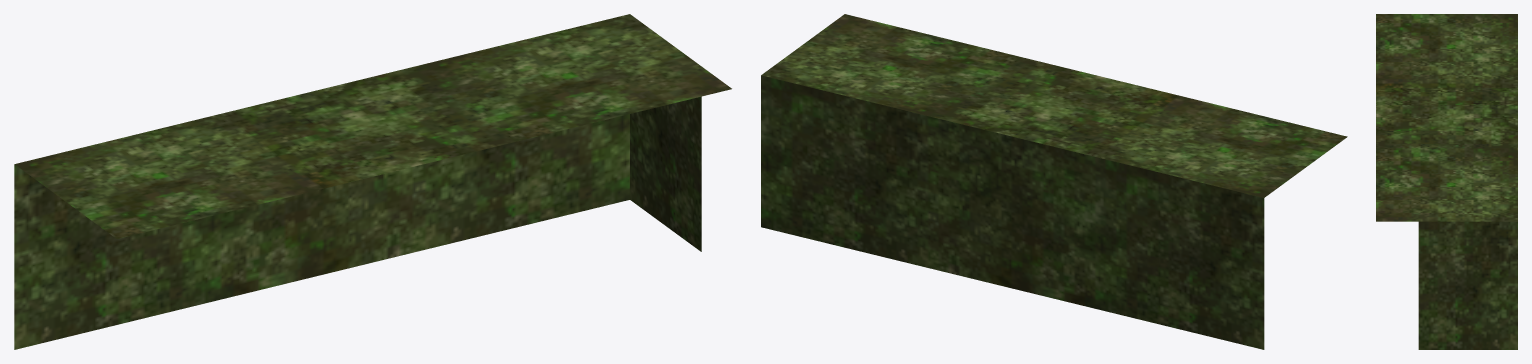
The model's file is OVERHILL_A_01_PLANE129.fbx.
3 renders of one model, left to right at view 1: azimuth 30°, elevation 25°; view 2: azimuth 150°, elevation 25°; view 3: azimuth 270°, elevation 25°, orthographic. The views are drawn at different scales.
Visible parts, largest first — view 1: OVERHILL_A_01_PLANE129; view 2: OVERHILL_A_01_PLANE129; view 3: OVERHILL_A_01_PLANE129.
Boxes of the visible parts, x1,y1,x2,y2 form: OVERHILL_A_01_PLANE129: (14,14,731,349); OVERHILL_A_01_PLANE129: (761,14,1347,349); OVERHILL_A_01_PLANE129: (1376,14,1517,349).
Bounding box in the file's own units: 48951 × 14121 × 14121.
1 material, 1 textured.
